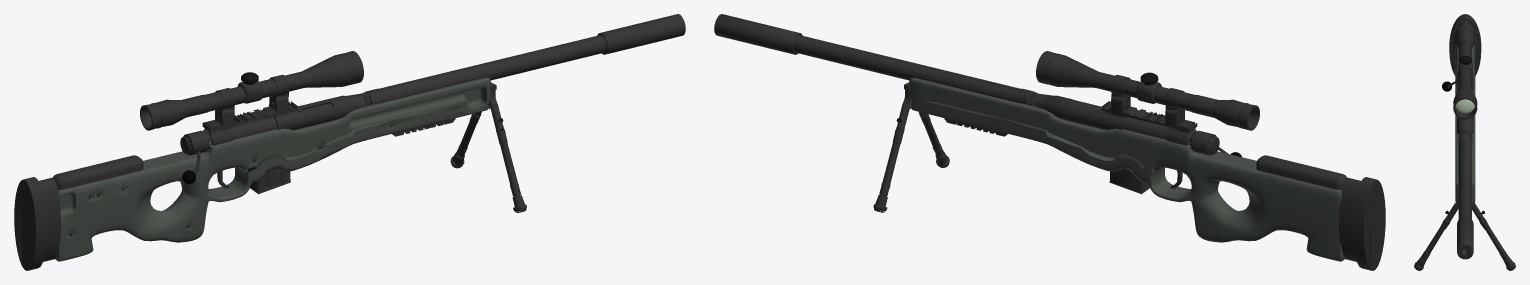
Rendered from l96a1_sniper.glb.
3 renders of one model, left to right at view 1: azimuth 30°, elevation 25°; view 2: azimuth 150°, elevation 25°; view 3: azimuth 270°, elevation 25°, orthographic. The views are drawn at different scales.
Visible parts, largest first — view 1: object 1, Cylinder_Geri Kalan Detaylar_0, Cylinder.014_Geri Kalan Detaylar_0, Cylinder.003_Geri Kalan Detaylar_0, Cylinder.004_Geri Kalan Detaylar_0, Cylinder.017_Geri Kalan Detaylar_0, Cube.008_Geri Kalan Detaylar_0, Cylinder.001_Geri Kalan Detaylar_0, Cube.002_Geri Kalan Detaylar_0, Cube.012_Geri Kalan Detaylar_0, Cube.017_Geri Kalan Detaylar_0, Cube.016_Geri Kalan Detaylar_0; view 2: object 1, Cylinder_Geri Kalan Detaylar_0, Cylinder.014_Geri Kalan Detaylar_0, Cylinder.003_Geri Kalan Detaylar_0, Cylinder.004_Geri Kalan Detaylar_0, Cylinder.017_Geri Kalan Detaylar_0, Cube.008_Geri Kalan Detaylar_0, Cube.002_Geri Kalan Detaylar_0, Cube.012_Geri Kalan Detaylar_0, Cylinder.001_Geri Kalan Detaylar_0, Cube.016_Geri Kalan Detaylar_0, Cube.017_Geri Kalan Detaylar_0; view 3: Cylinder_Geri Kalan Detaylar_0, Cylinder.014_Geri Kalan Detaylar_0, Cylinder.017_Geri Kalan Detaylar_0, object 1, Cylinder.003_Geri Kalan Detaylar_0, Cylinder.004_Geri Kalan Detaylar_0, Cylinder.014_Material.003_0, Cube.015_Geri Kalan Detaylar_0, object 25, Cube.016_Geri Kalan Detaylar_0, Sphere_Material.004_0.
Boxes of the visible parts, x1=… form: object 1: x1=54, y1=77, x2=490, y2=261; Cylinder_Geri Kalan Detaylar_0: x1=180, y1=35, x2=607, y2=155; Cylinder.014_Geri Kalan Detaylar_0: x1=140, y1=51, x2=363, y2=130; Cylinder.003_Geri Kalan Detaylar_0: x1=14, y1=177, x2=60, y2=270; Cylinder.004_Geri Kalan Detaylar_0: x1=597, y1=14, x2=685, y2=54; Cylinder.017_Geri Kalan Detaylar_0: x1=450, y1=103, x2=526, y2=212; Cube.008_Geri Kalan Detaylar_0: x1=52, y1=155, x2=143, y2=189; Cylinder.001_Geri Kalan Detaylar_0: x1=224, y1=101, x2=334, y2=139; Cube.002_Geri Kalan Detaylar_0: x1=202, y1=101, x2=298, y2=131; Cube.012_Geri Kalan Detaylar_0: x1=247, y1=154, x2=290, y2=194; Cube.017_Geri Kalan Detaylar_0: x1=215, y1=88, x2=234, y2=127; Cube.016_Geri Kalan Detaylar_0: x1=269, y1=74, x2=289, y2=114; object 1: x1=909, y1=77, x2=1345, y2=261; Cylinder_Geri Kalan Detaylar_0: x1=792, y1=35, x2=1219, y2=155; Cylinder.014_Geri Kalan Detaylar_0: x1=1036, y1=51, x2=1259, y2=130; Cylinder.003_Geri Kalan Detaylar_0: x1=1339, y1=177, x2=1385, y2=270; Cylinder.004_Geri Kalan Detaylar_0: x1=714, y1=14, x2=802, y2=54; Cylinder.017_Geri Kalan Detaylar_0: x1=873, y1=103, x2=949, y2=212; Cube.008_Geri Kalan Detaylar_0: x1=1256, y1=155, x2=1347, y2=189; Cube.002_Geri Kalan Detaylar_0: x1=1101, y1=101, x2=1197, y2=131; Cube.012_Geri Kalan Detaylar_0: x1=1109, y1=154, x2=1152, y2=194; Cylinder.001_Geri Kalan Detaylar_0: x1=1103, y1=111, x2=1178, y2=139; Cube.016_Geri Kalan Detaylar_0: x1=1110, y1=74, x2=1130, y2=114; Cube.017_Geri Kalan Detaylar_0: x1=1165, y1=88, x2=1184, y2=127; Cylinder_Geri Kalan Detaylar_0: x1=1457, y1=73, x2=1473, y2=219; Cylinder.014_Geri Kalan Detaylar_0: x1=1453, y1=24, x2=1477, y2=119; Cylinder.017_Geri Kalan Detaylar_0: x1=1414, y1=203, x2=1515, y2=270; object 1: x1=1455, y1=42, x2=1475, y2=202; Cylinder.003_Geri Kalan Detaylar_0: x1=1449, y1=14, x2=1481, y2=75; Cylinder.004_Geri Kalan Detaylar_0: x1=1457, y1=216, x2=1473, y2=259; Cylinder.014_Material.003_0: x1=1455, y1=99, x2=1474, y2=113; Cube.015_Geri Kalan Detaylar_0: x1=1458, y1=62, x2=1472, y2=76; object 25: x1=1459, y1=55, x2=1472, y2=66; Cube.016_Geri Kalan Detaylar_0: x1=1458, y1=72, x2=1472, y2=85; Sphere_Material.004_0: x1=1442, y1=81, x2=1452, y2=91.
Size of the model in its own units: 5.6 by 1.42 by 1.02.
